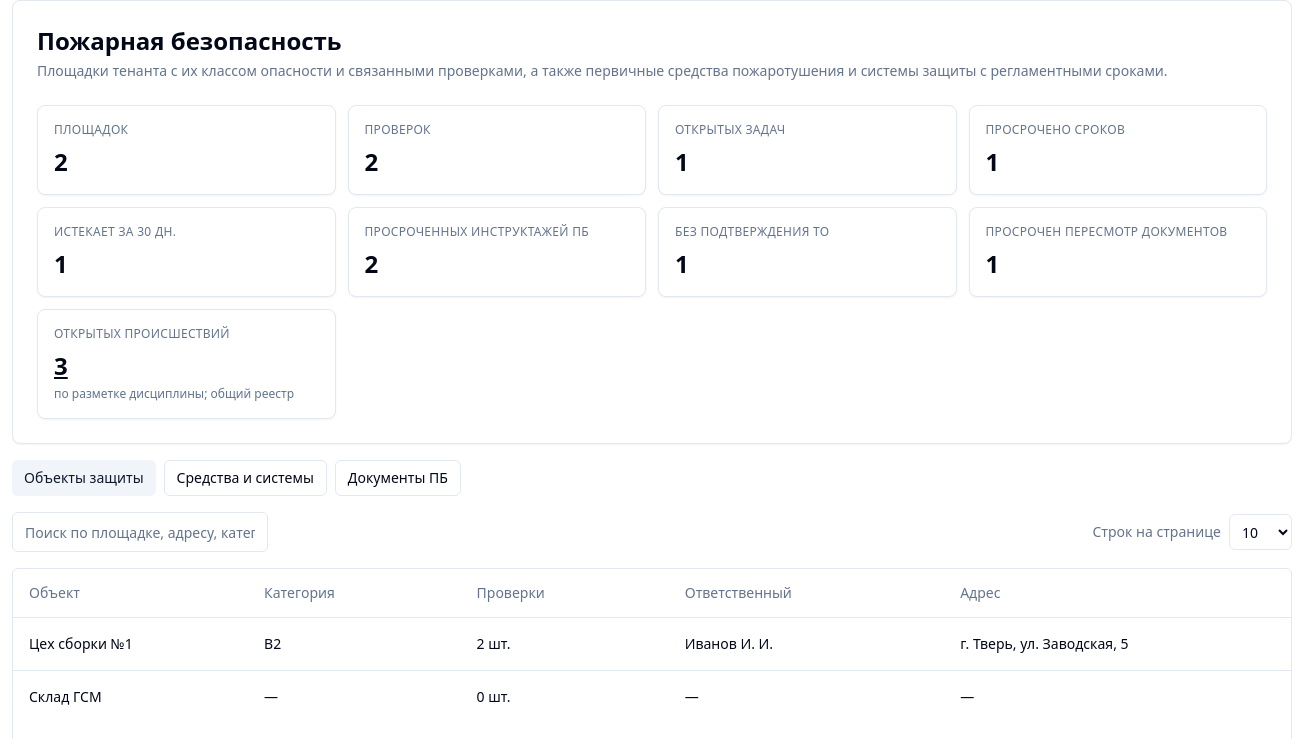
Test: FireSafetyPage › экран не выдаёт перечень обязательных документов за свой
Expected: the text "Цех сборки №1" is shown, [13,617,248,670]
What coordinates should you click on to do the following:
click the button "Документы ПБ"
I would click on:
 (398, 478)
Its box is [335,460,461,496].
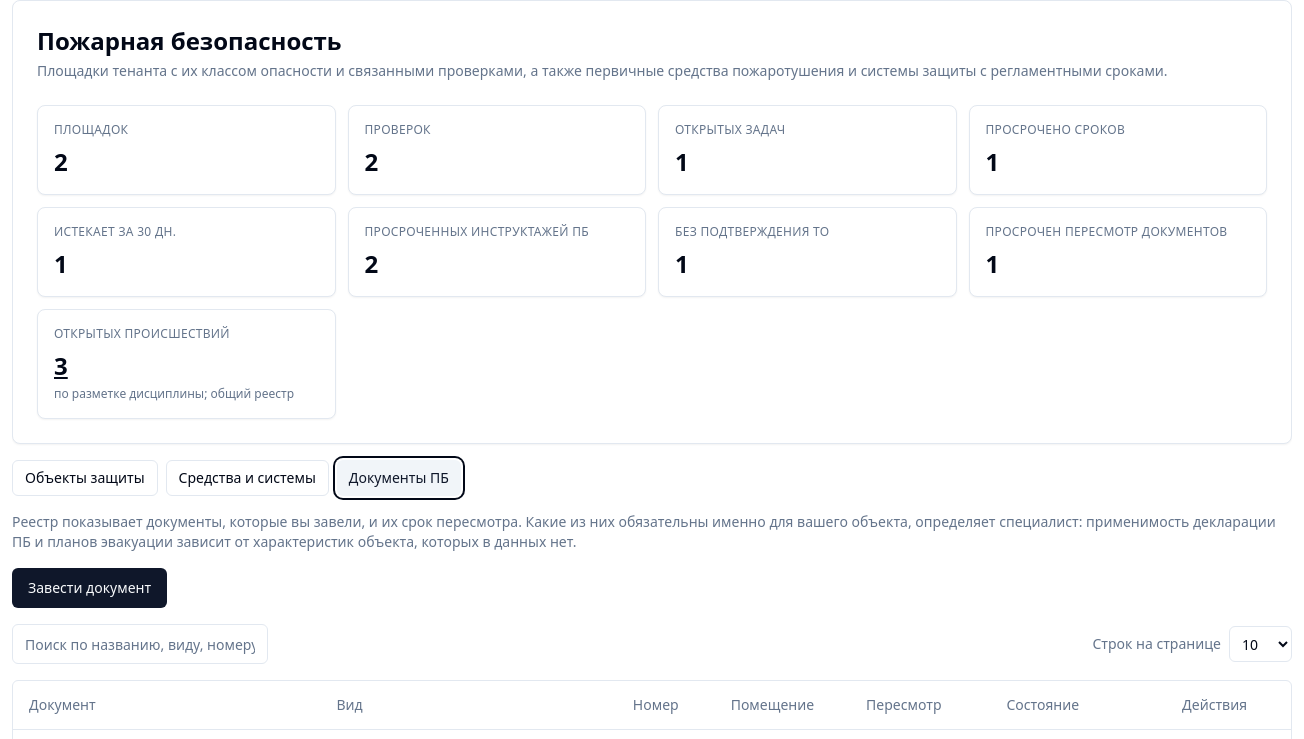
Expected: the text "определяет специалист" is shown, [12,512,1276,551]
